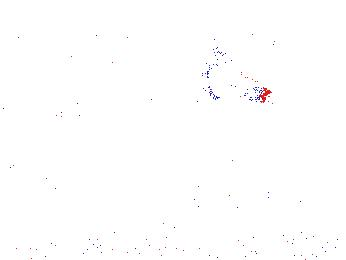flame jellyfish: (280, 170, 346, 223), (200, 56, 269, 103), (219, 159, 274, 209)
